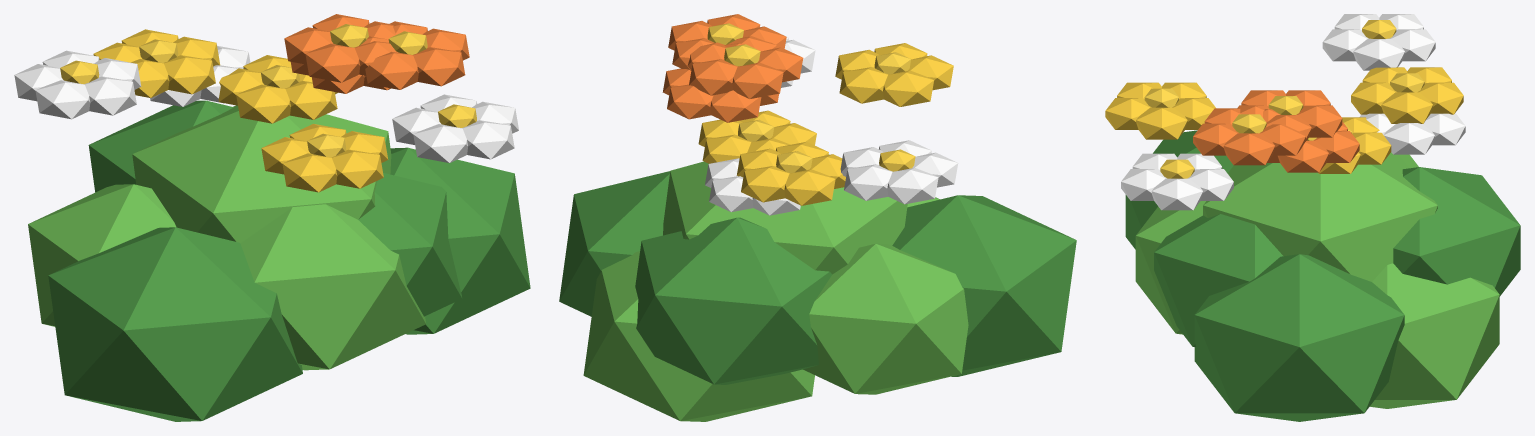
Rendered from flowers-sunny.glb.
3 views of the same model, side by side, from view 1: azimuth 30°, elevation 25°; view 2: azimuth 150°, elevation 25°; view 3: azimuth 270°, elevation 25° (orthographic). The views are drawn at different scales.
Parts seen in each view (by area): view 1: flowers-sunny; view 2: flowers-sunny; view 3: flowers-sunny.
Part boxes in pixels (left/top/right/bottom): flowers-sunny: left=14, top=14, right=530, bottom=421; flowers-sunny: left=559, top=14, right=1076, bottom=421; flowers-sunny: left=1105, top=14, right=1520, bottom=421.
Bounding box in the file's own units: 0.5473 × 0.3844 × 0.4511.
